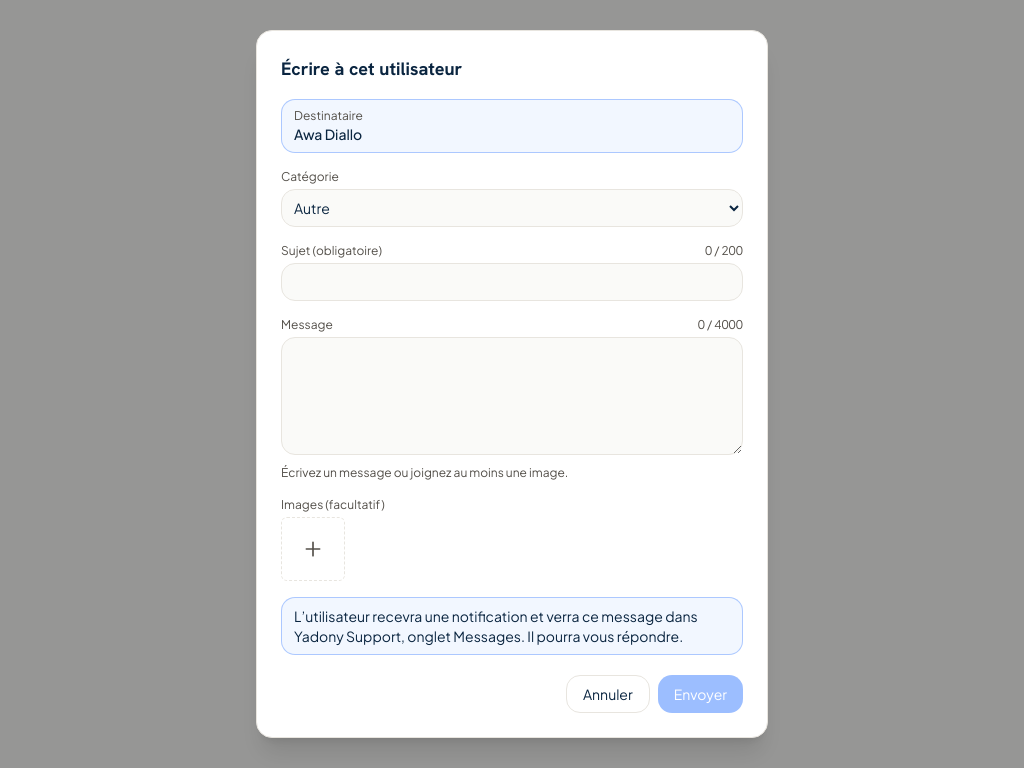
Scenario: StartSupportConversationDialog › 403 : erreur affichée dans la fenêtre, qui reste ouverte
In the field with test id "start-subject": (512, 282) [281,263,743,301], type "Votre colis"
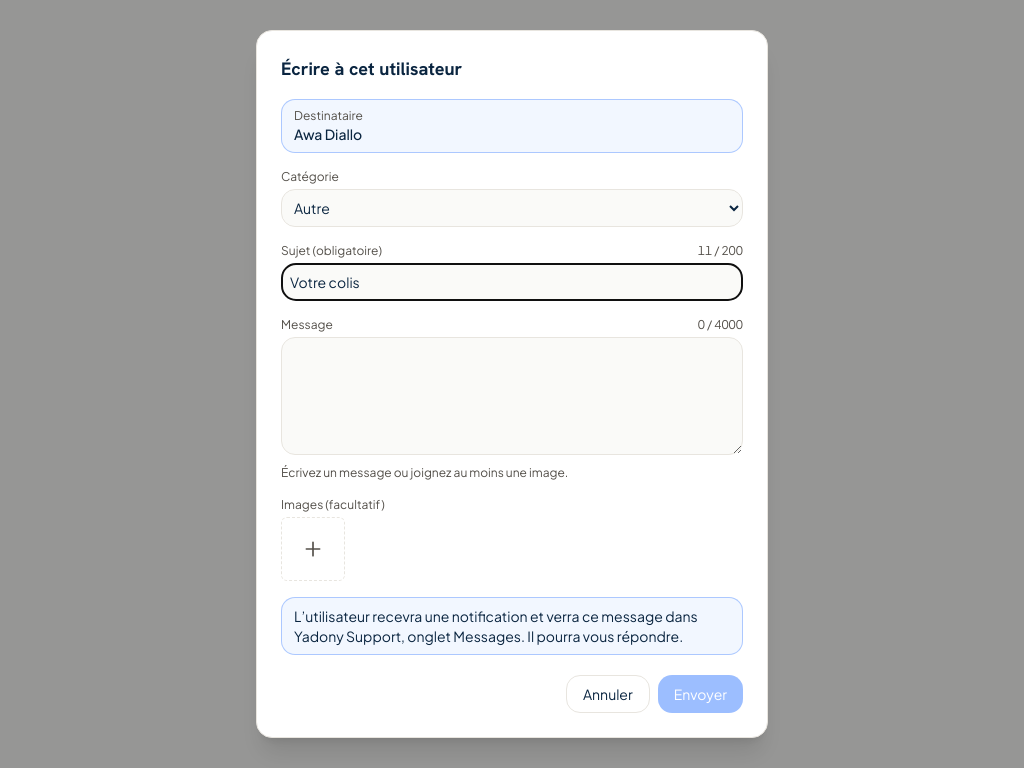
In the text box with test id "start-message": (512, 396) [281,337,743,455], type "Bonjour Awa"
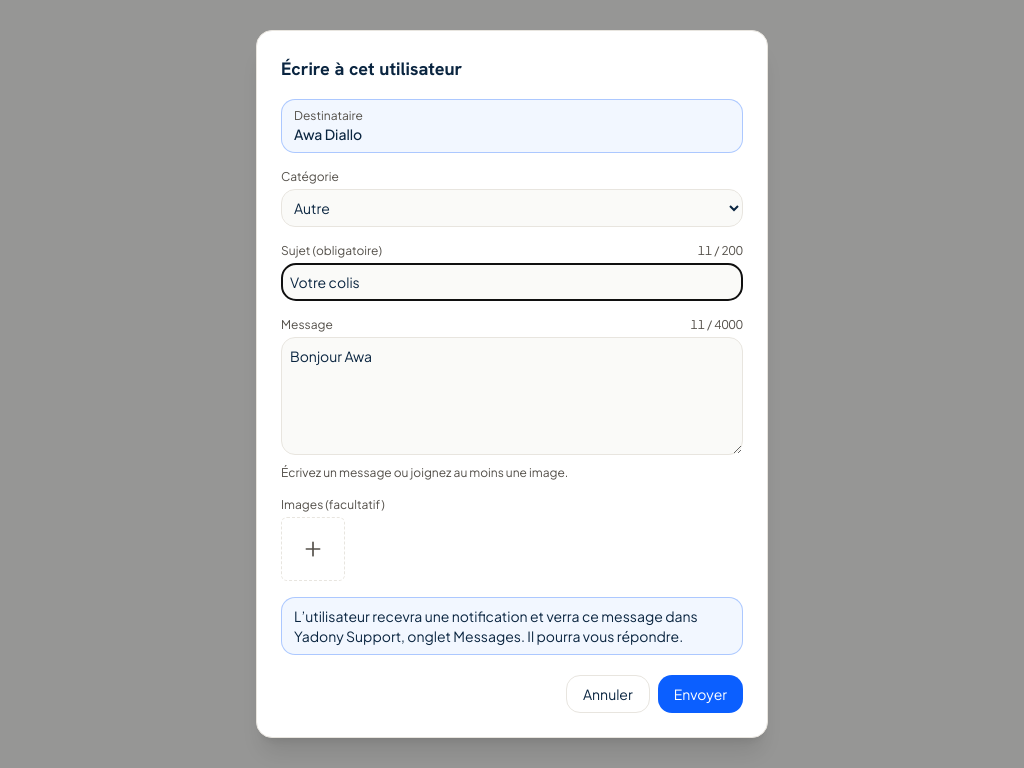
Click the button with test id "start-submit": (700, 694) [658,675,743,713]
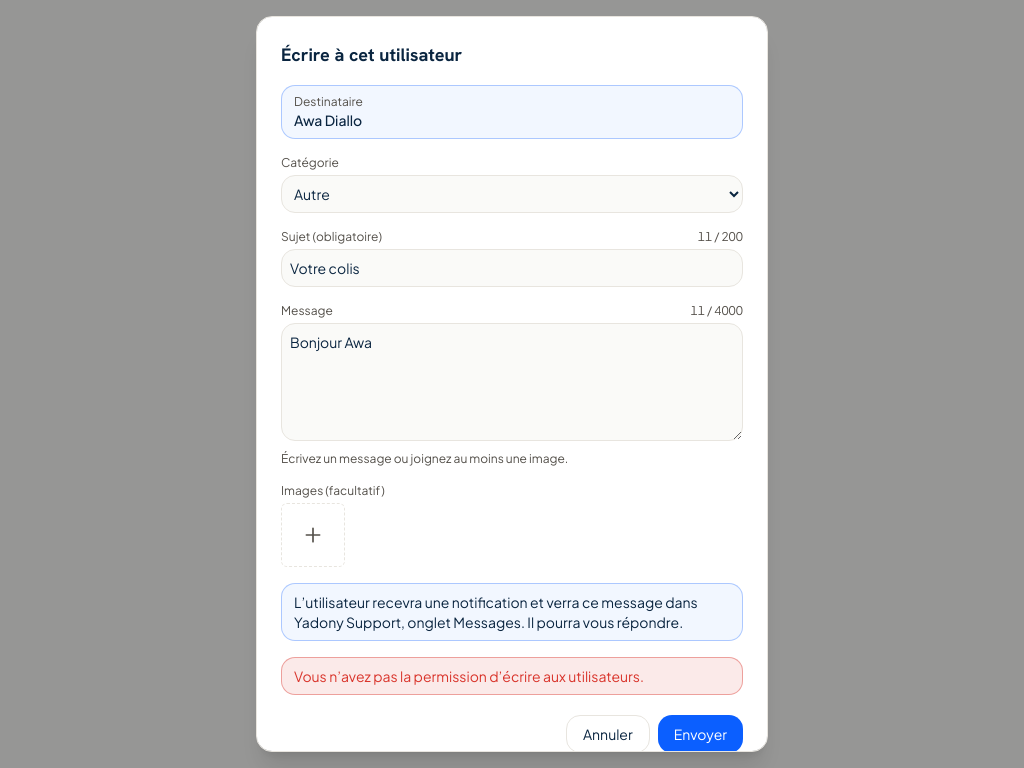
Result: the message with test id "start-error" reads "Vous n’avez pas la permission d’écrire aux utilisateurs." at [294,667,644,685]
